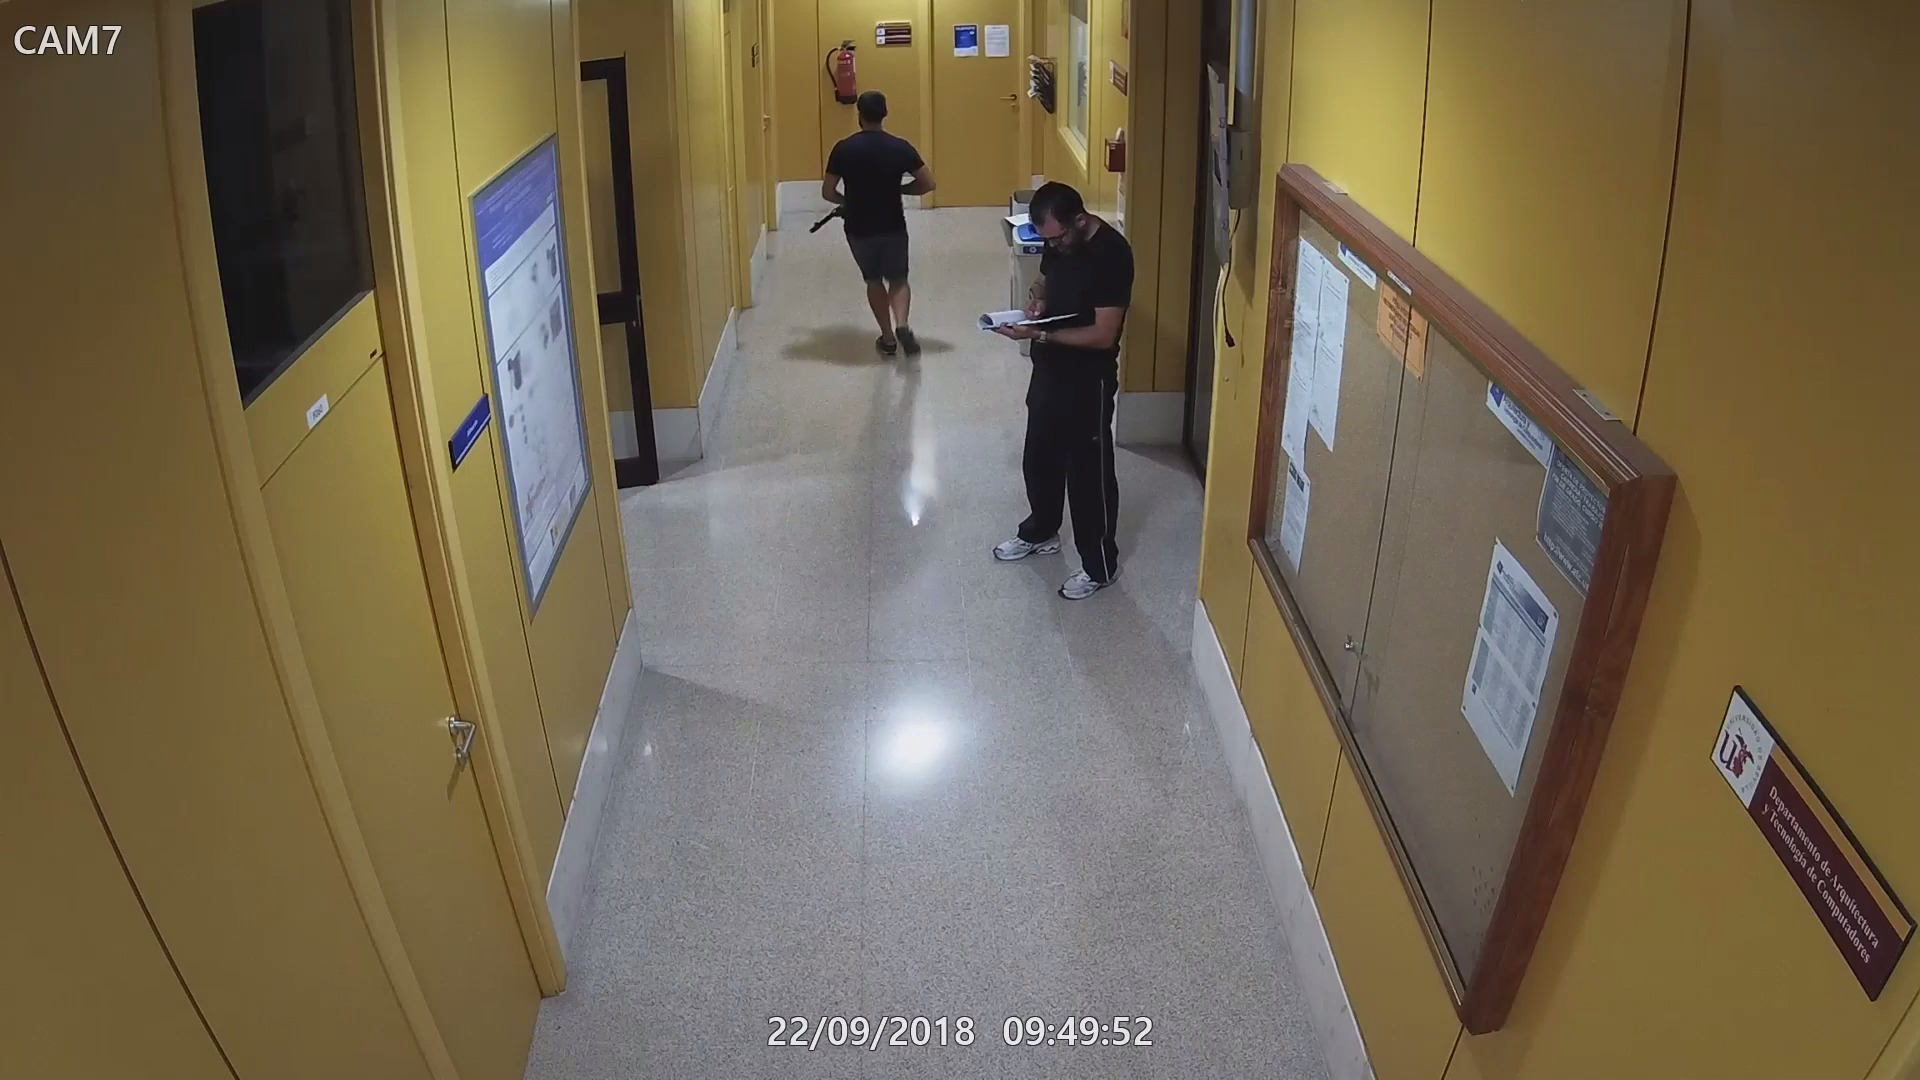Short_rifle: (807, 199, 848, 229)
